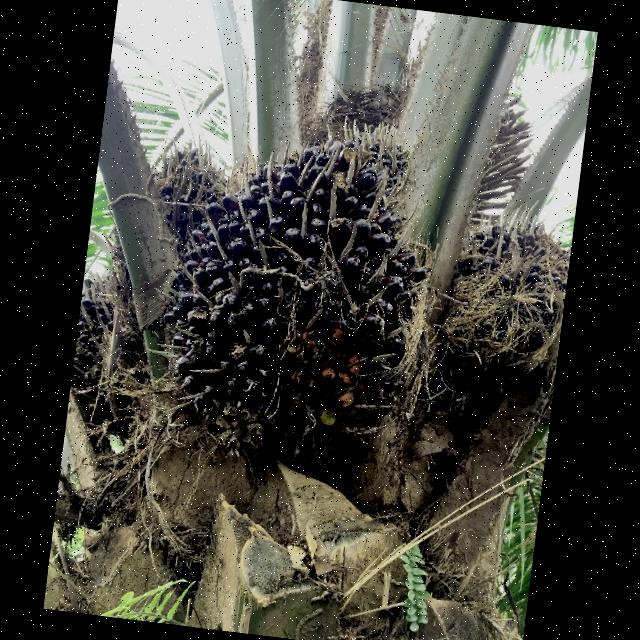Unripe: (168, 143, 418, 431)
